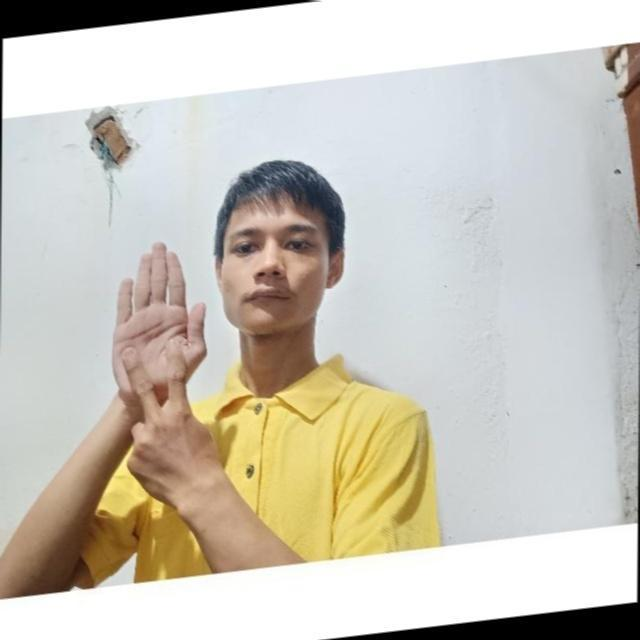N: (99, 232, 213, 456)
